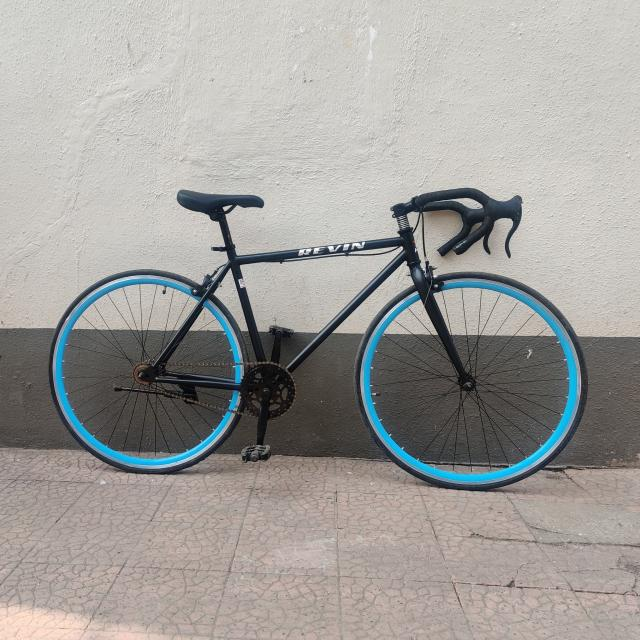bicycle: (49, 188, 587, 490)
